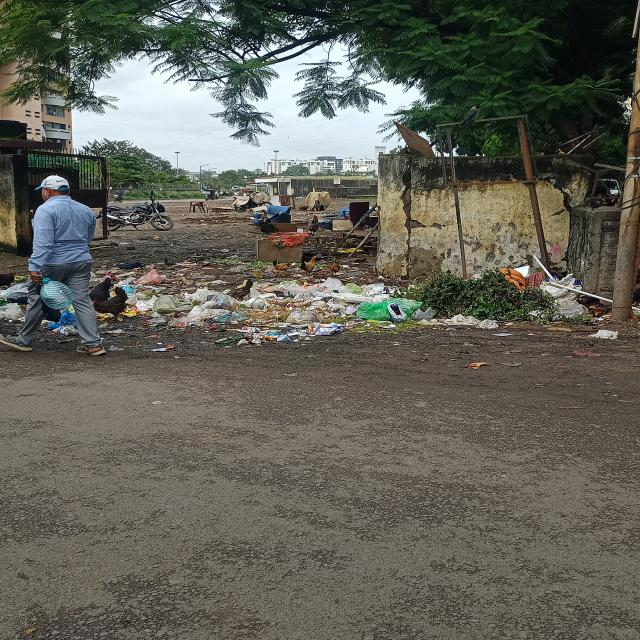garbage: (177, 270, 581, 334), (98, 266, 176, 334), (241, 235, 320, 271)
